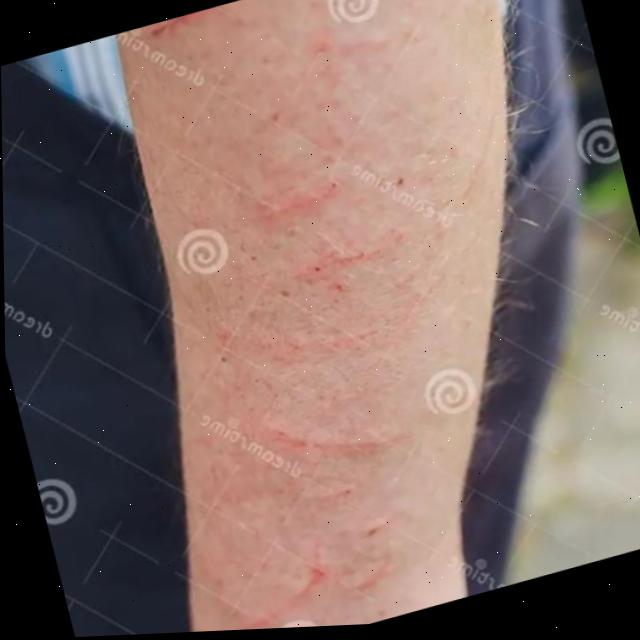Eczema: (55, 0, 541, 638)
